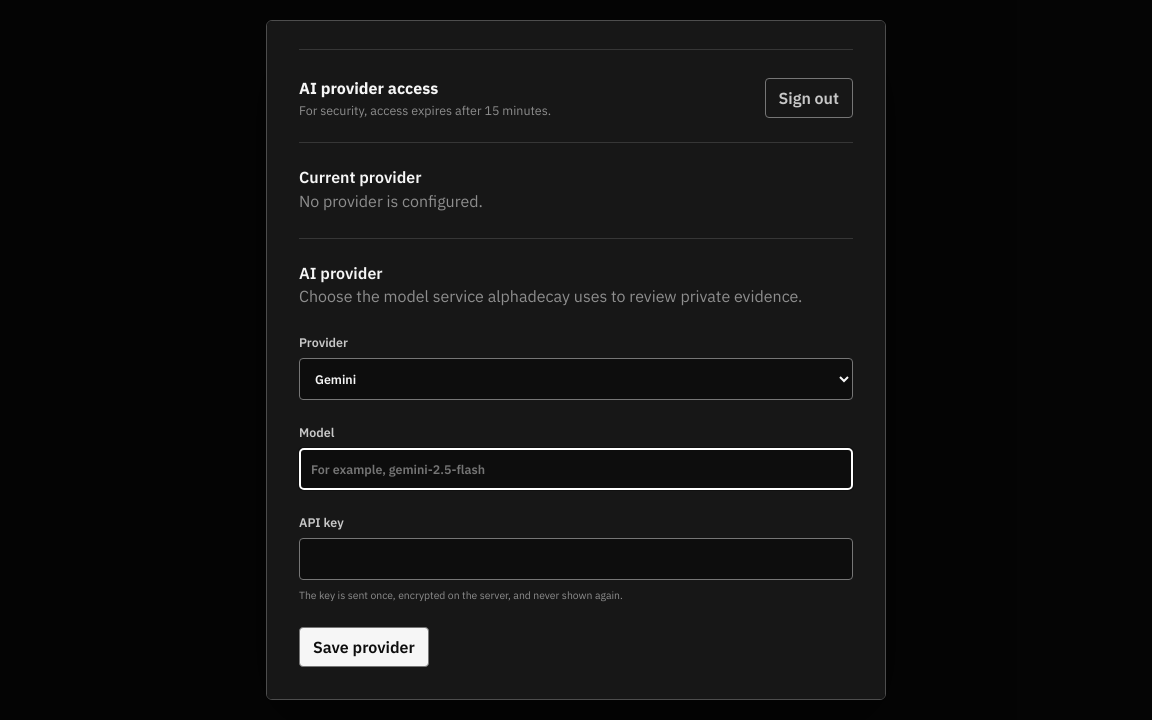
Scenario: owner settings › shows the custom endpoint only for OpenAI-compatible providers
(page scrolled)
Expected: the field labelled "Custom endpoint" is not shown
Select "OpenAI-compatible API" in the dropdown labelled "Provider" at (576, 379), box [299, 358, 853, 400]
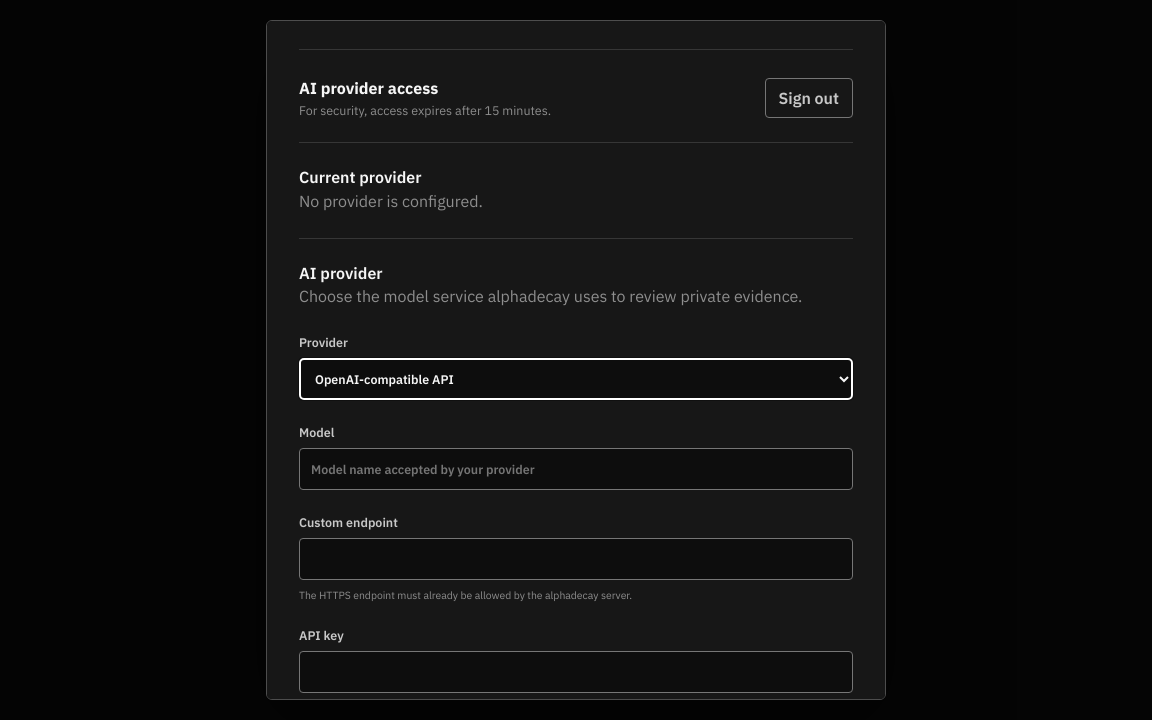
Now the text "The HTTPS endpoint must already be allowed by the alphadecay server." is shown, box [299, 588, 632, 602]
